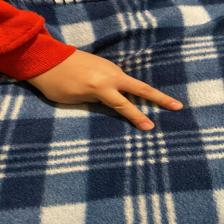two: (30, 49, 189, 134)
